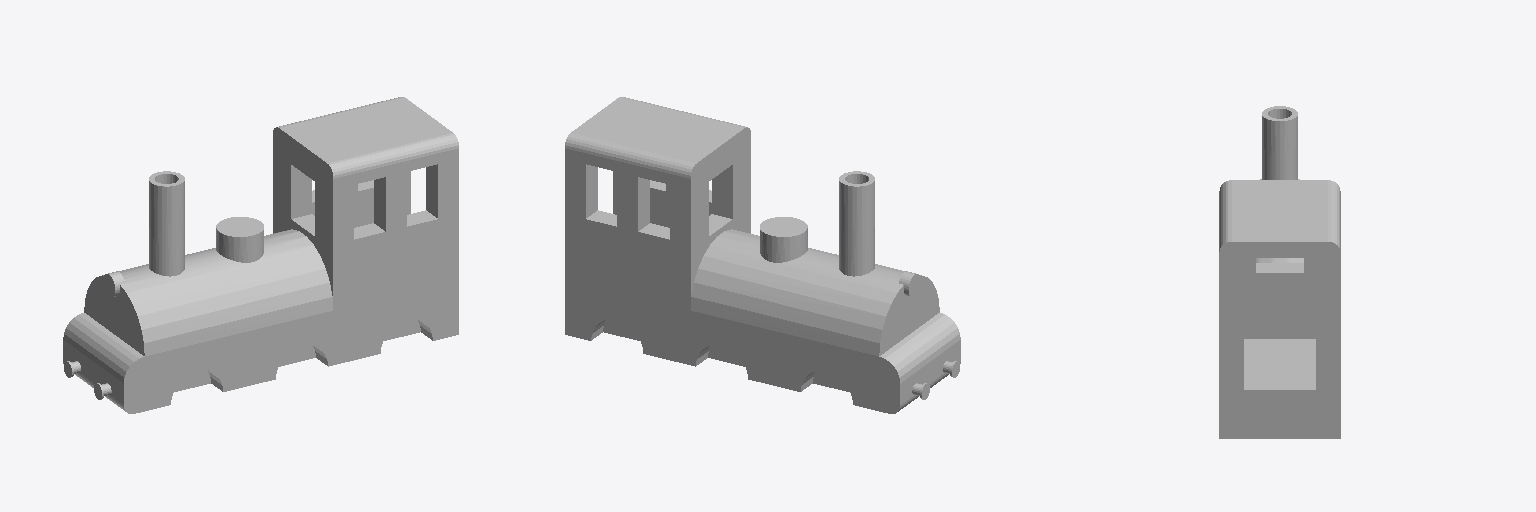
The model's file is trainHead v4.obj.
3 renders of one model, left to right at view 1: azimuth 30°, elevation 25°; view 2: azimuth 150°, elevation 25°; view 3: azimuth 270°, elevation 25°, orthographic.
Visible parts, largest first — view 1: Body1; view 2: Body1; view 3: Body1.
Boxes of the visible parts, box(x1,y1,x2,y2) form: Body1: box(63, 97, 458, 413); Body1: box(565, 97, 960, 413); Body1: box(1219, 106, 1340, 438).
Bounding box in the file's own units: 33 × 18 × 10.